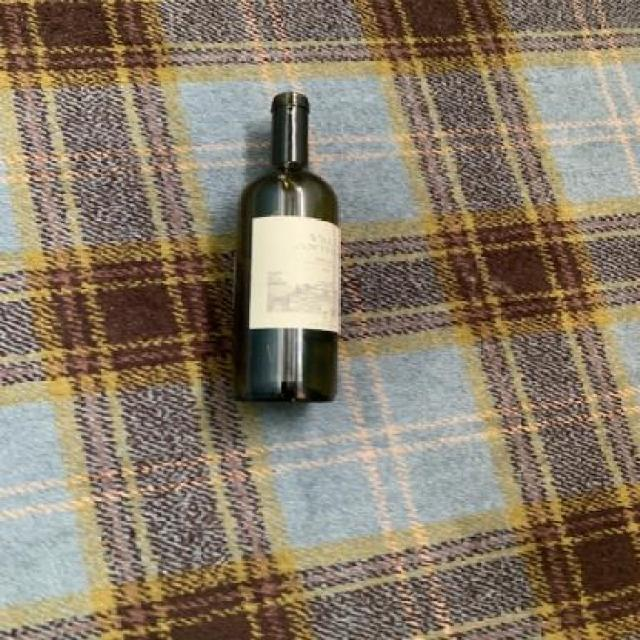trash: (226, 92, 348, 406)
